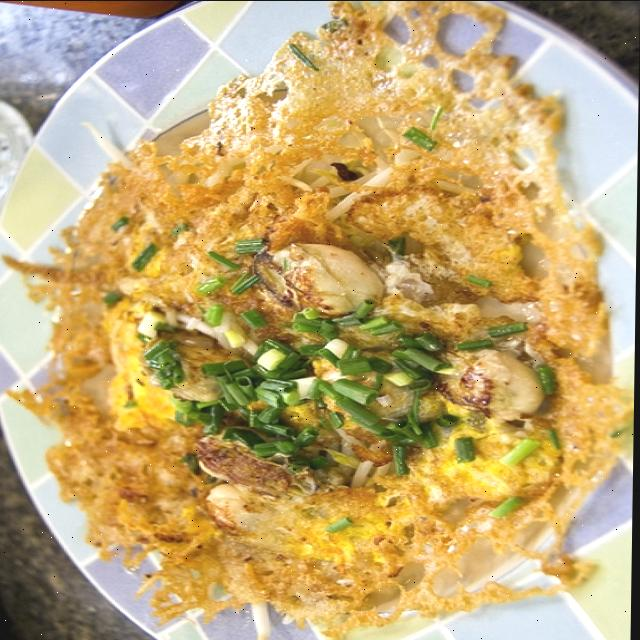熟制海鲜: (0, 38, 635, 640)
